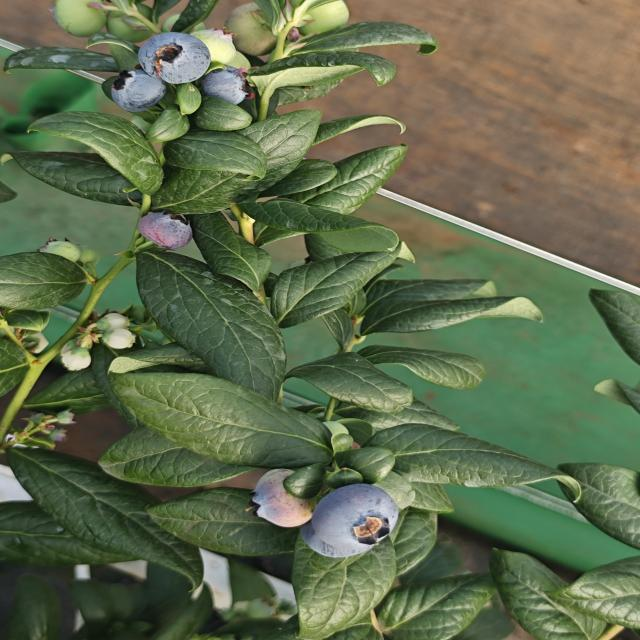ripe: (298, 482, 402, 560), (134, 30, 213, 86), (103, 67, 168, 115), (135, 210, 195, 253), (200, 65, 254, 108)
